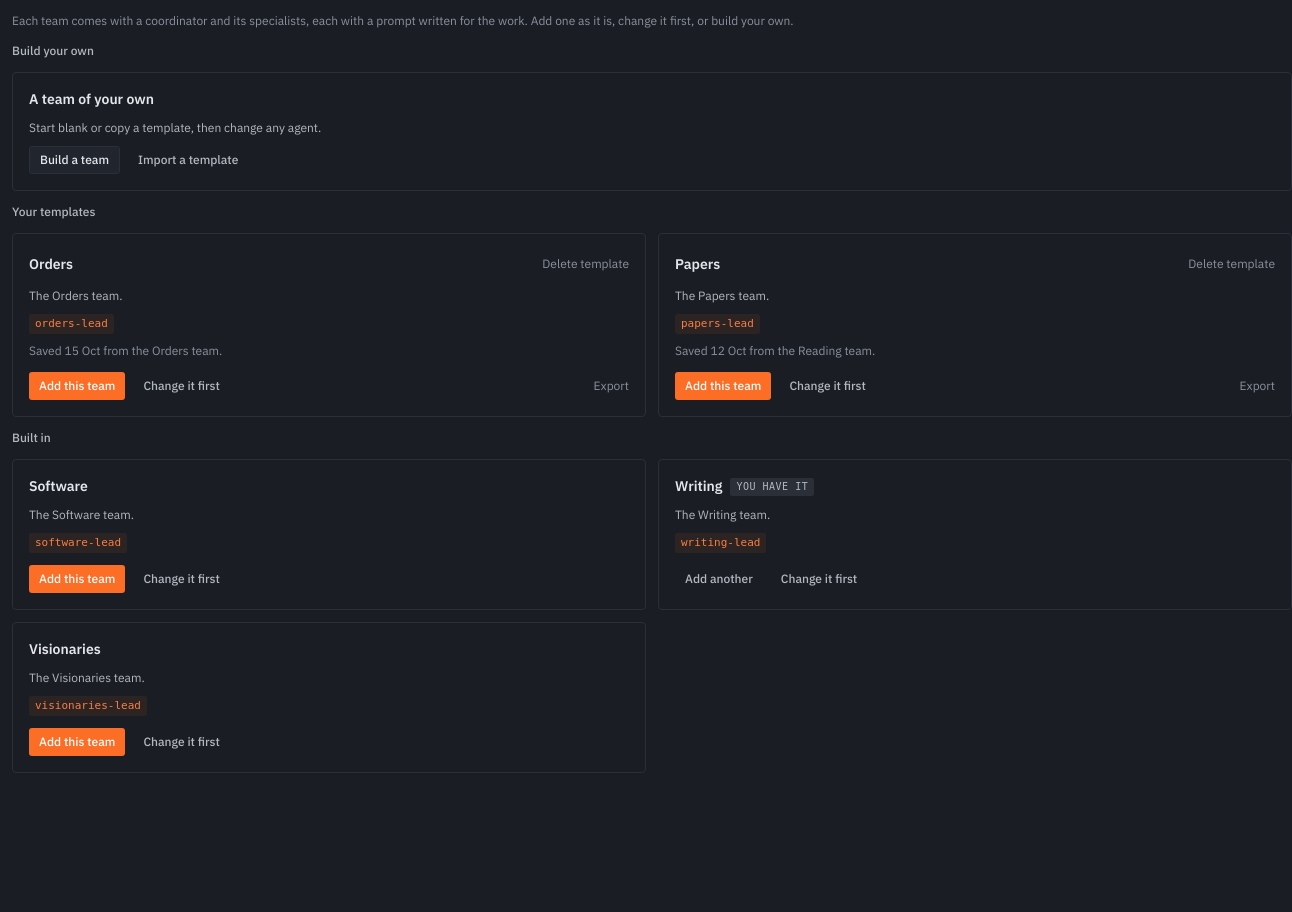
Test: AddTeam: deleting a template of yours › Delete deletes it, reads the list again and moves focus to the next card's Add this team
Click the 1st button "Delete template" at (586, 264), box [542,250,629,278]
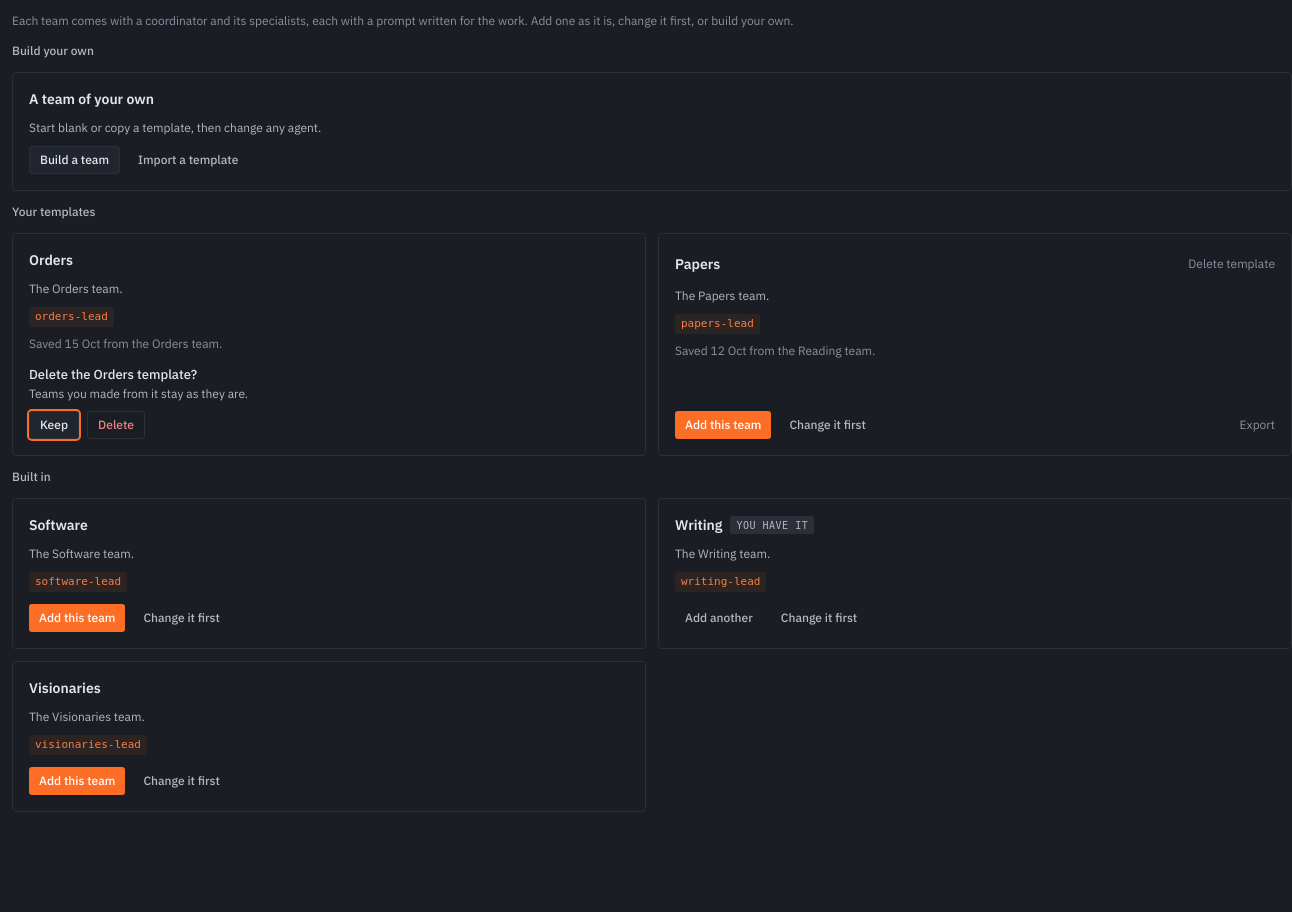
Click the button "Delete" at (116, 424), box [87,410,145,438]
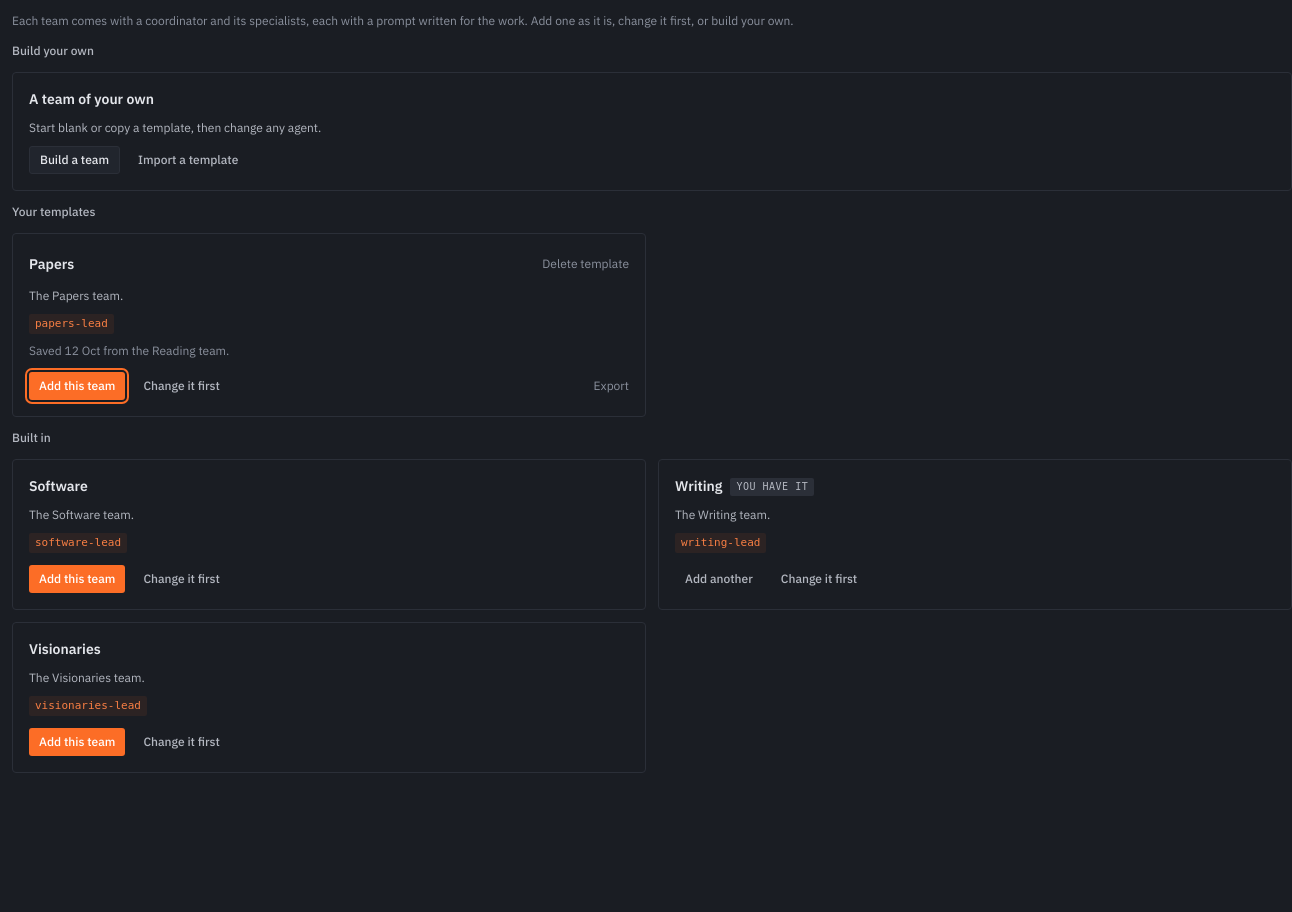
Now the text "Orders" is gone
